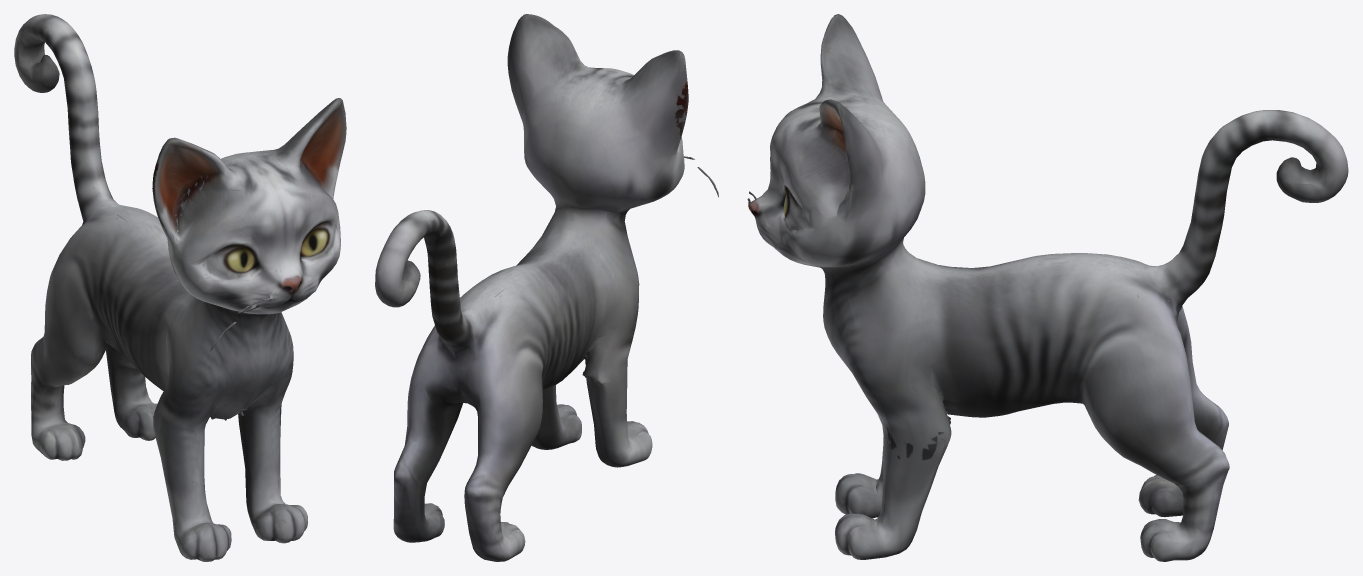
File: pascual.glb
The picture shows the model from 3 angles, left to right: view 1: azimuth 30°, elevation 25°; view 2: azimuth 150°, elevation 25°; view 3: azimuth 270°, elevation 25°; orthographic projection. The views are drawn at different scales.
Visible parts, largest first — view 1: Mesh1.0; view 2: Mesh1.0; view 3: Mesh1.0.
Boxes of the visible parts, x1,y1,x2,y2 form: Mesh1.0: [14, 14, 346, 561]; Mesh1.0: [375, 14, 718, 561]; Mesh1.0: [747, 14, 1348, 561].
Size of the model in its own units: 0.8056 by 1.75 by 2.01.
1 material, 1 textured.
